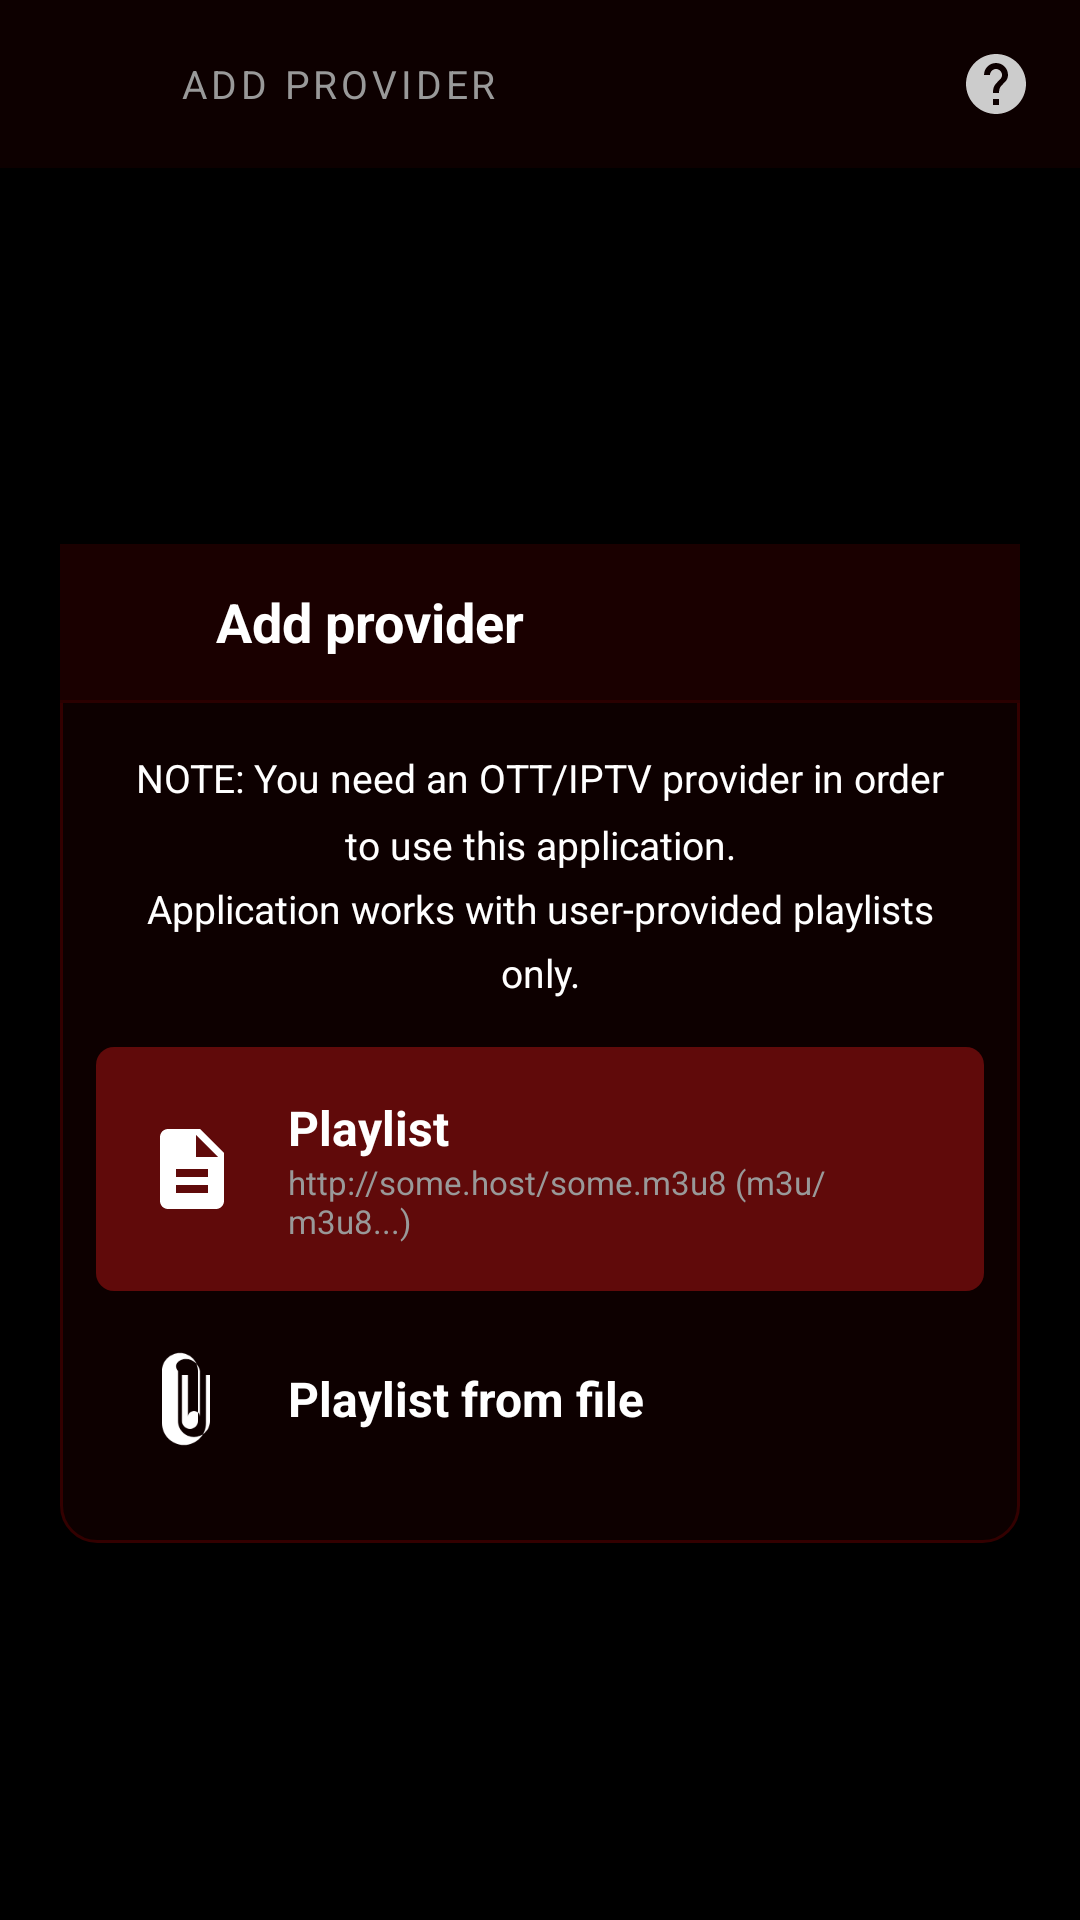

Icon click points for this 1080px x 1920px phone screenshot, format point (x, y):
attach: point (186, 1399)
help: point (996, 84)
